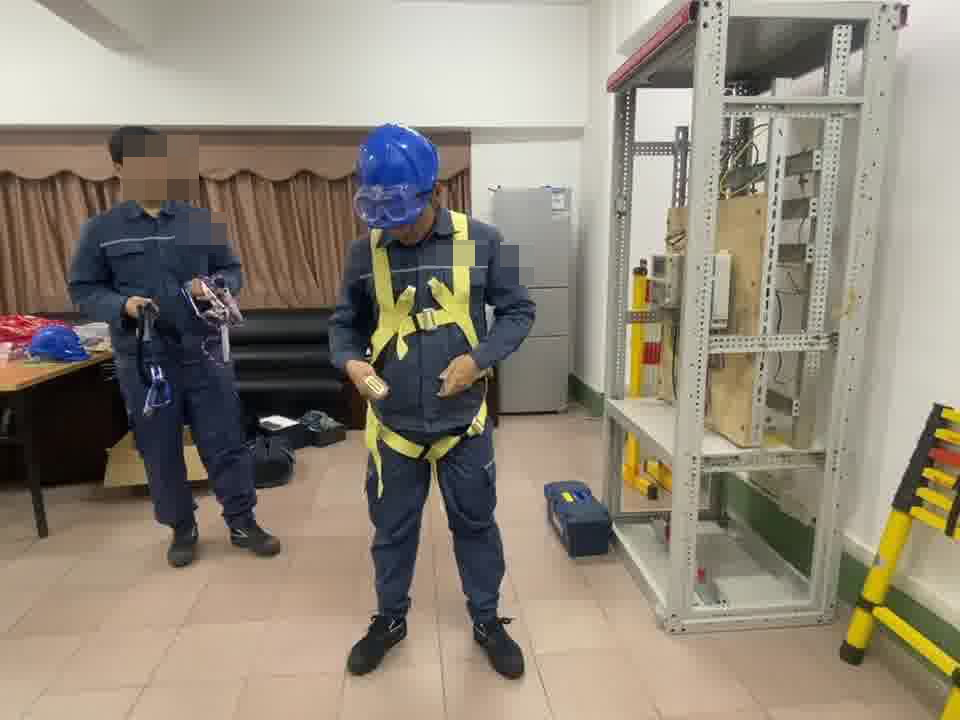downsuit: (367, 402, 511, 626), (138, 373, 256, 528)
halt: (352, 124, 442, 235), (107, 126, 176, 209)
hand: (432, 349, 489, 406), (340, 357, 385, 395), (121, 290, 157, 319)
noear: (108, 160, 135, 187)
person: (332, 122, 538, 675), (72, 124, 277, 560)
safebelt: (326, 210, 504, 499)
sleeve: (505, 245, 530, 283)
unhalt: (107, 127, 176, 204)
upsuit: (337, 208, 530, 436), (76, 199, 239, 355)
